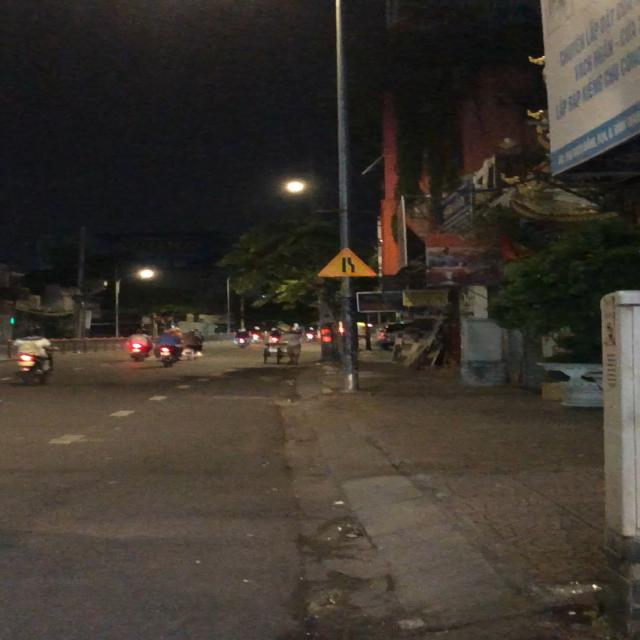Bien bao duong bi thu hep: (316, 246, 382, 278)
